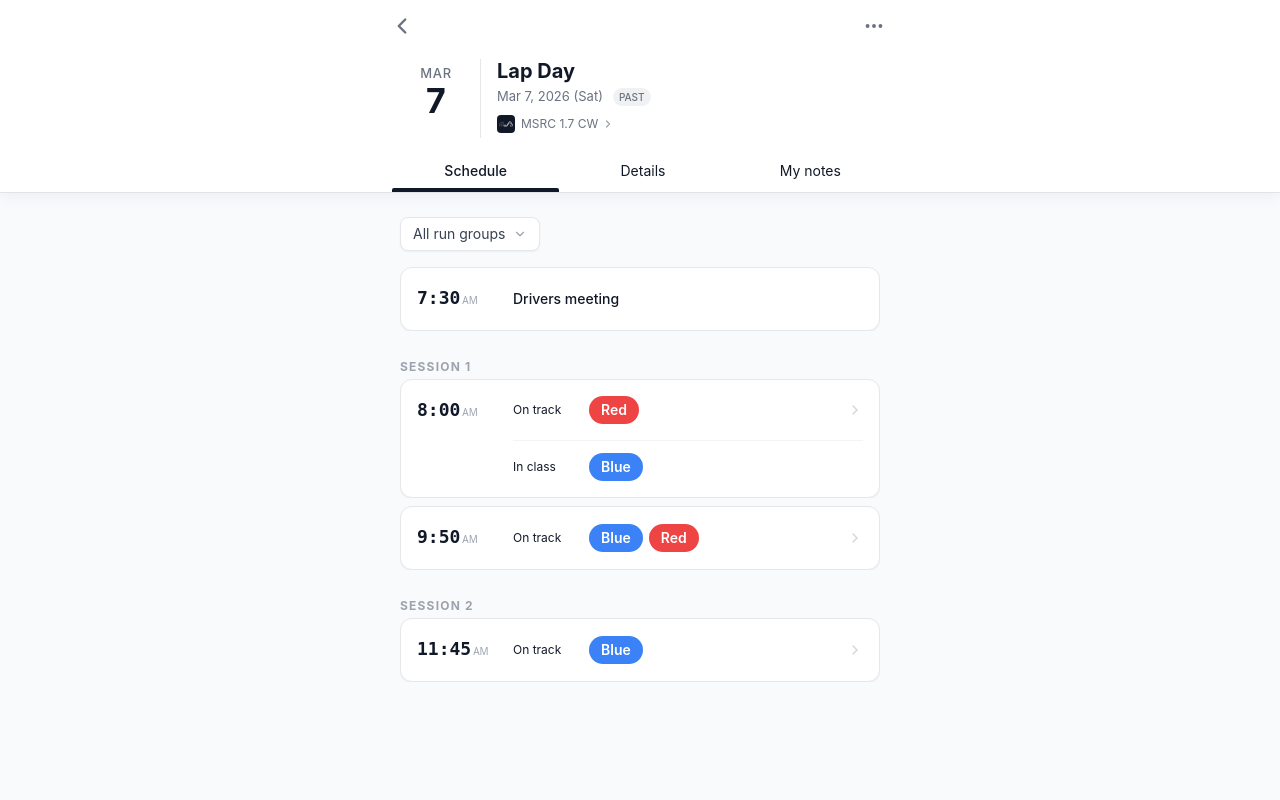
Test: lap times (#210) › offers to read increasing times as video timestamps
Click the button with aria-label "Lap times: 11:45 AM, Blue" at (537, 650), box [507,629,869,671]
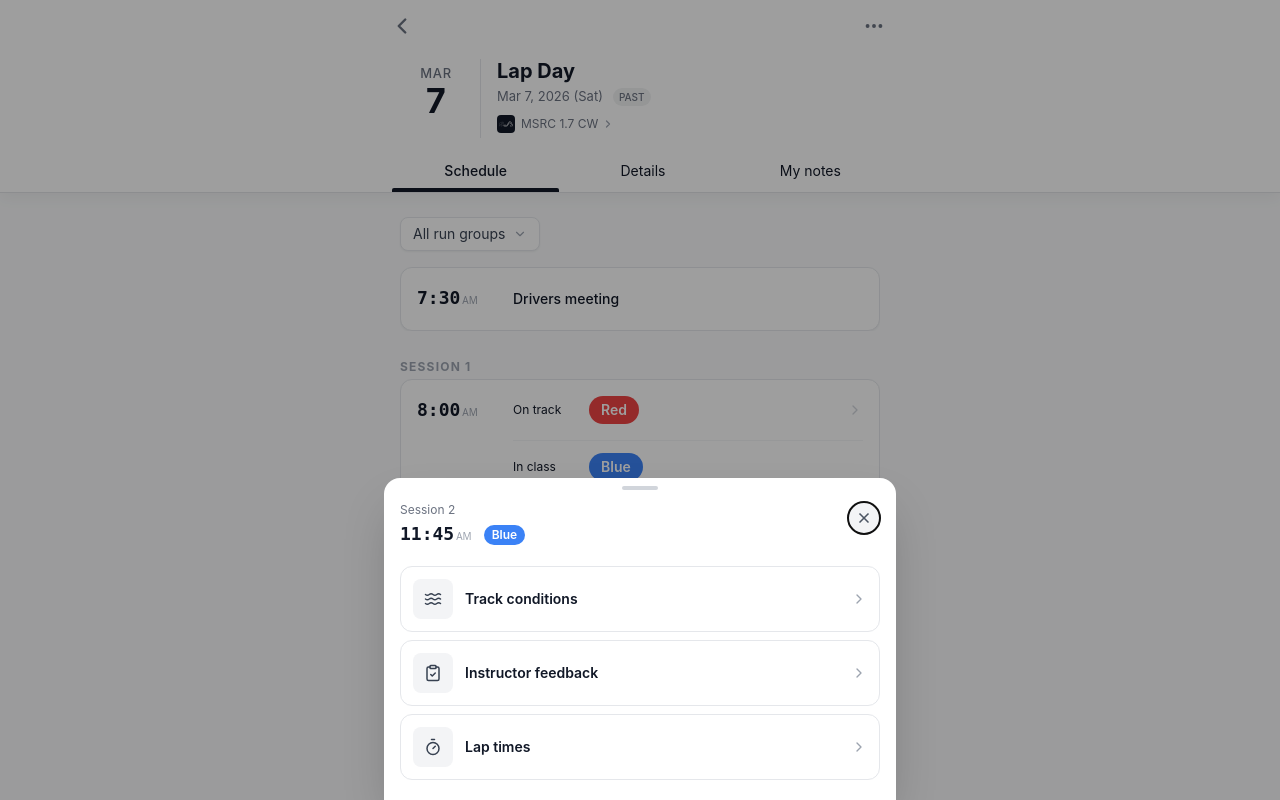
Click the button "Lap times" at (433, 747), box [400,714,880,780]
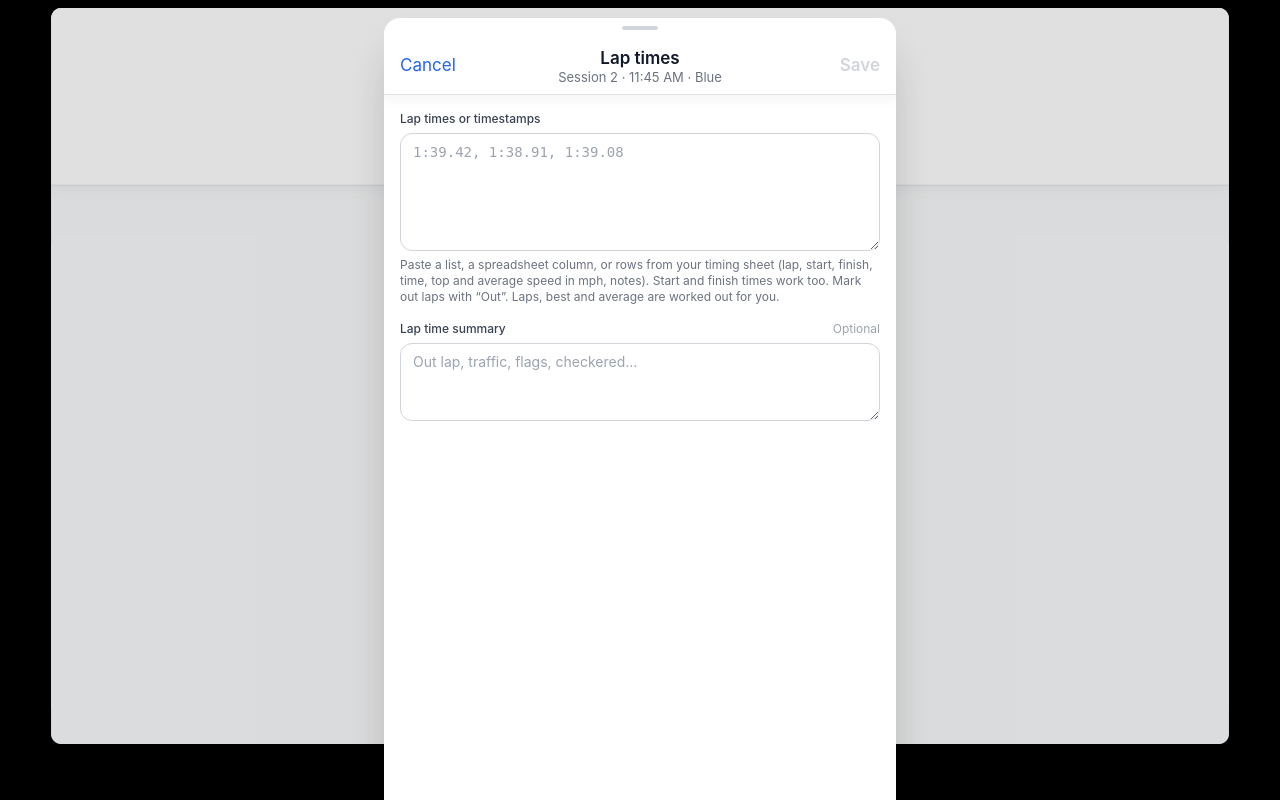
Now the element that starts with "Cancel" is shown, box [384,38,896,799]
Type "2:13, 4:09, 5:57" into the text box labelled "Lap times or timestamps" at (640, 192), box [400,133,880,251]
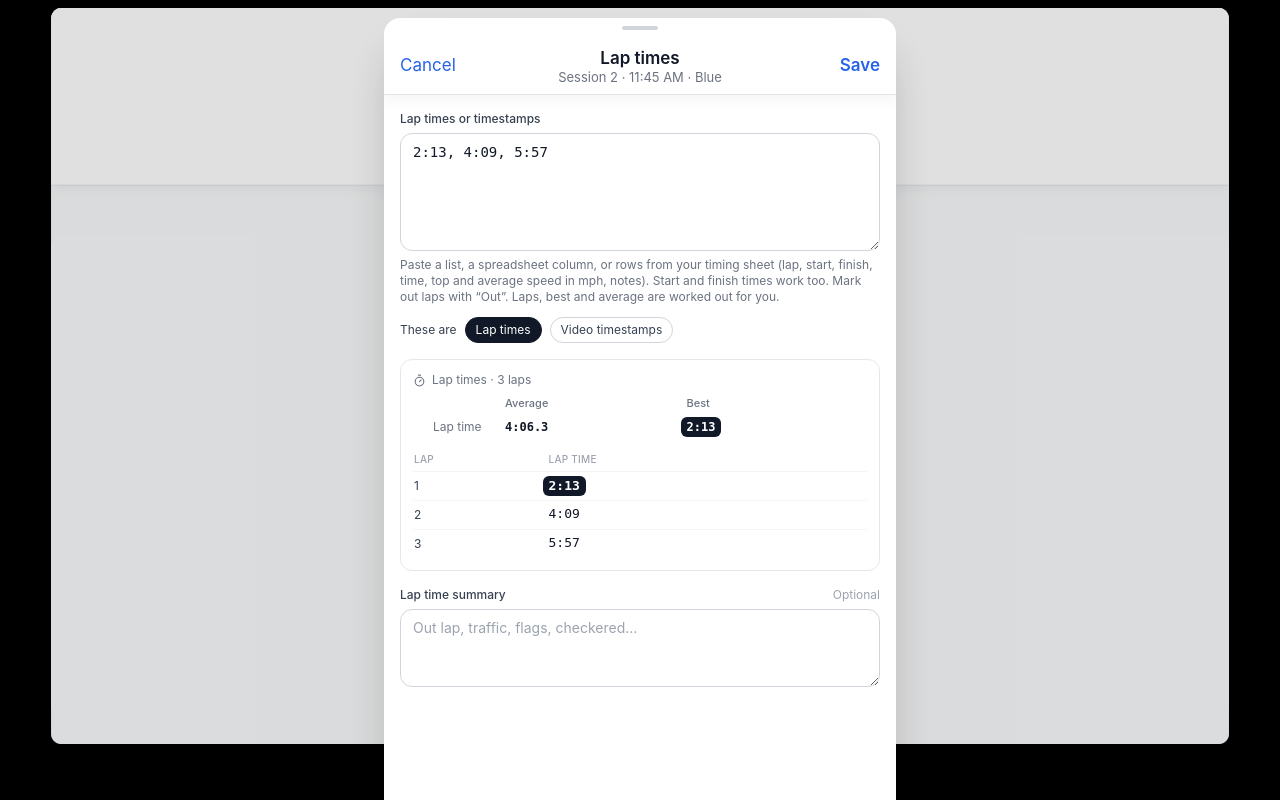
Now the element named "Laps read" shows "Lap times · 3 laps", box [400,359,880,571]
Click the button "Video timestamps" at (611, 330), box [550,317,673,343]
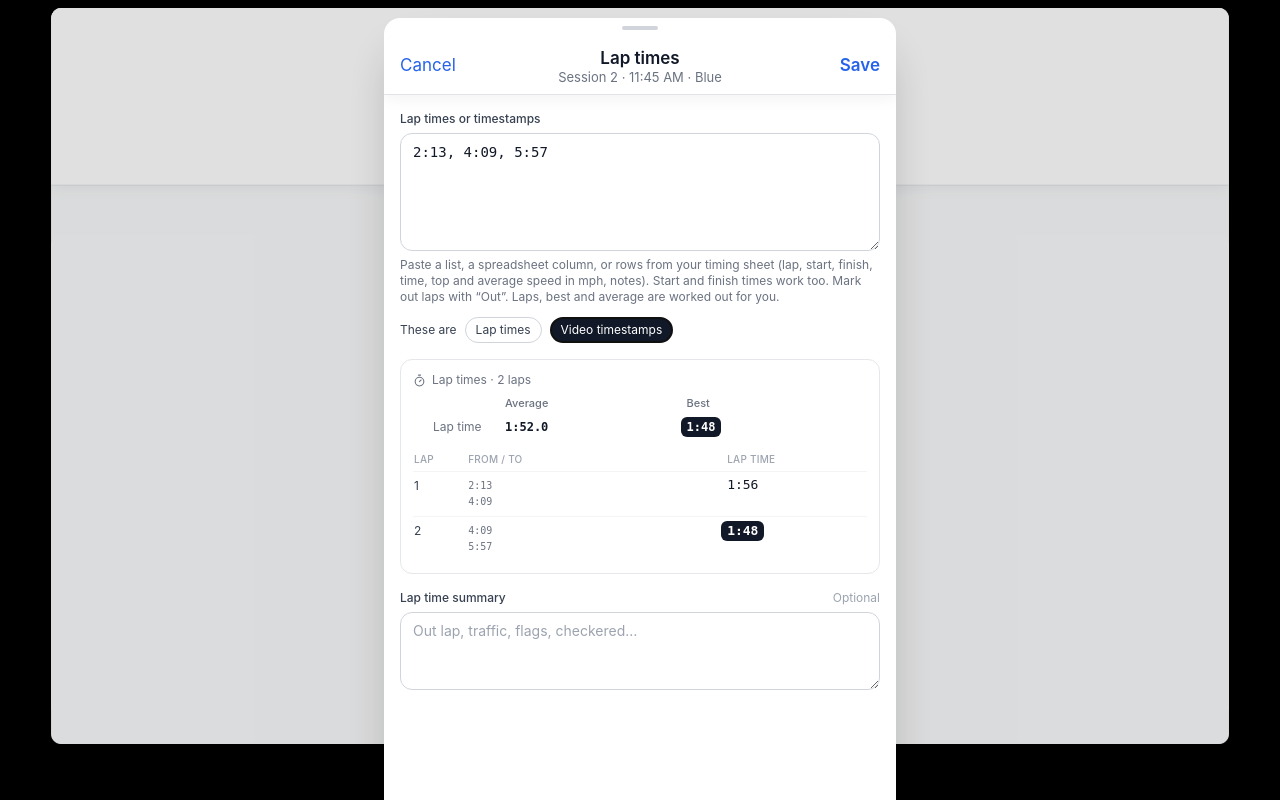
Now the element named "Laps read" shows "Lap times · 2 laps", box [400,359,880,574]
